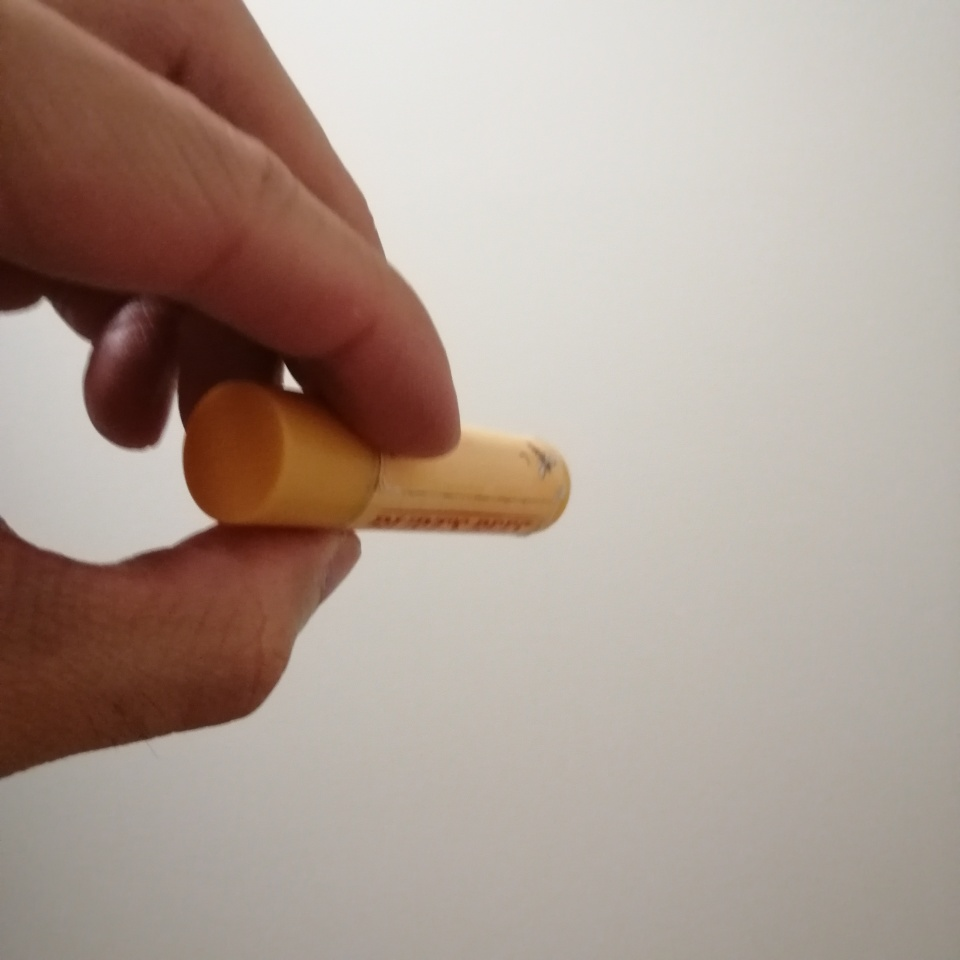chapstick: (181, 380, 574, 538)
